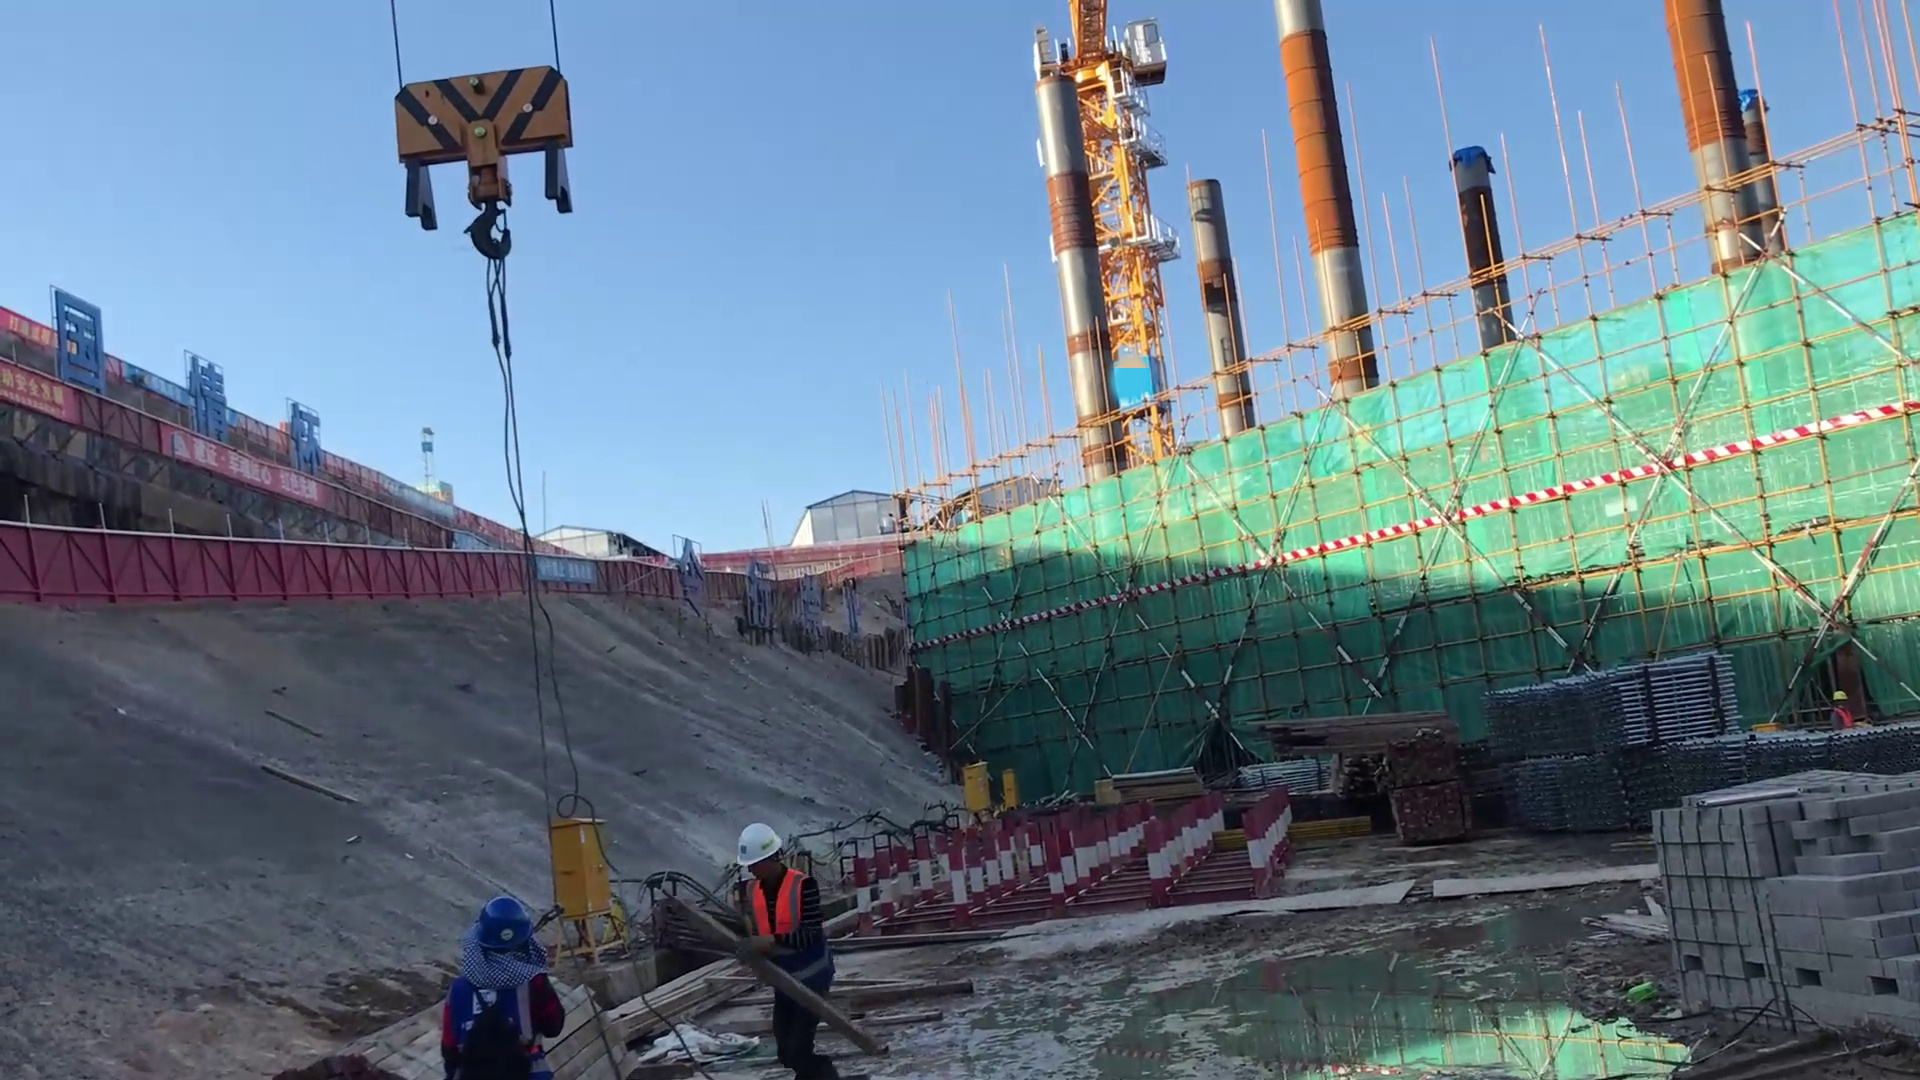board: (1651, 786, 1920, 1046)
ebox: (528, 800, 621, 922), (955, 757, 989, 813), (997, 765, 1017, 804)
fence: (1, 533, 496, 598), (493, 544, 685, 607)
helmet: (470, 892, 537, 947), (727, 817, 782, 868)
hook: (378, 72, 582, 233)
person: (729, 823, 850, 1080), (438, 888, 565, 1080), (1824, 689, 1857, 732)
scaffold: (1481, 639, 1771, 749)
vest: (741, 869, 806, 952)
wood: (1254, 723, 1455, 772)
